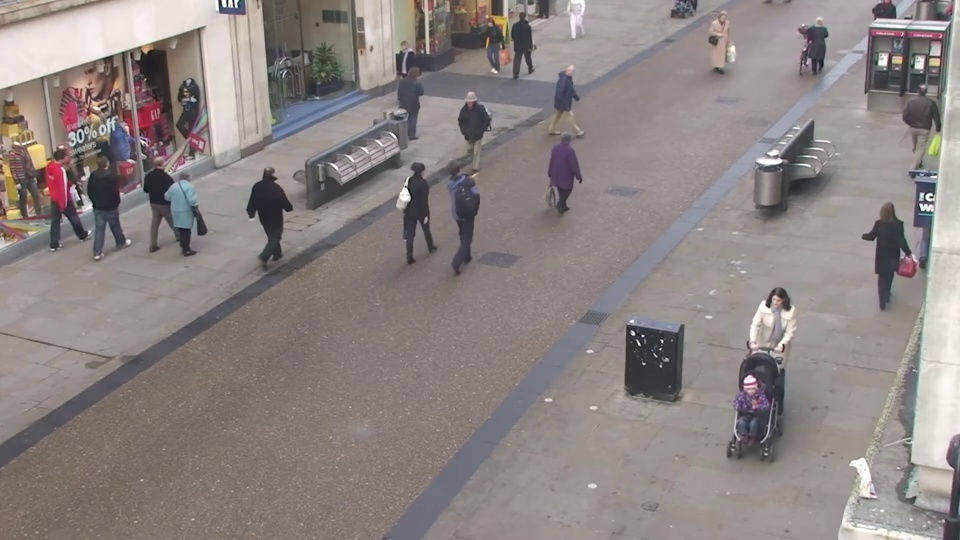pedestrian: (719, 371, 776, 534), (745, 288, 796, 429), (859, 189, 908, 306), (51, 142, 99, 243), (92, 149, 138, 251), (174, 161, 217, 267), (150, 147, 192, 249), (261, 153, 300, 257), (410, 153, 447, 259), (899, 77, 942, 168), (443, 149, 479, 254), (556, 122, 588, 220), (453, 92, 484, 181), (406, 62, 435, 143), (566, 62, 593, 143), (803, 12, 833, 82), (389, 37, 416, 110), (476, 17, 501, 86), (710, 9, 735, 77), (515, 7, 538, 72)
